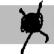not correct: (19, 0, 49, 54)
